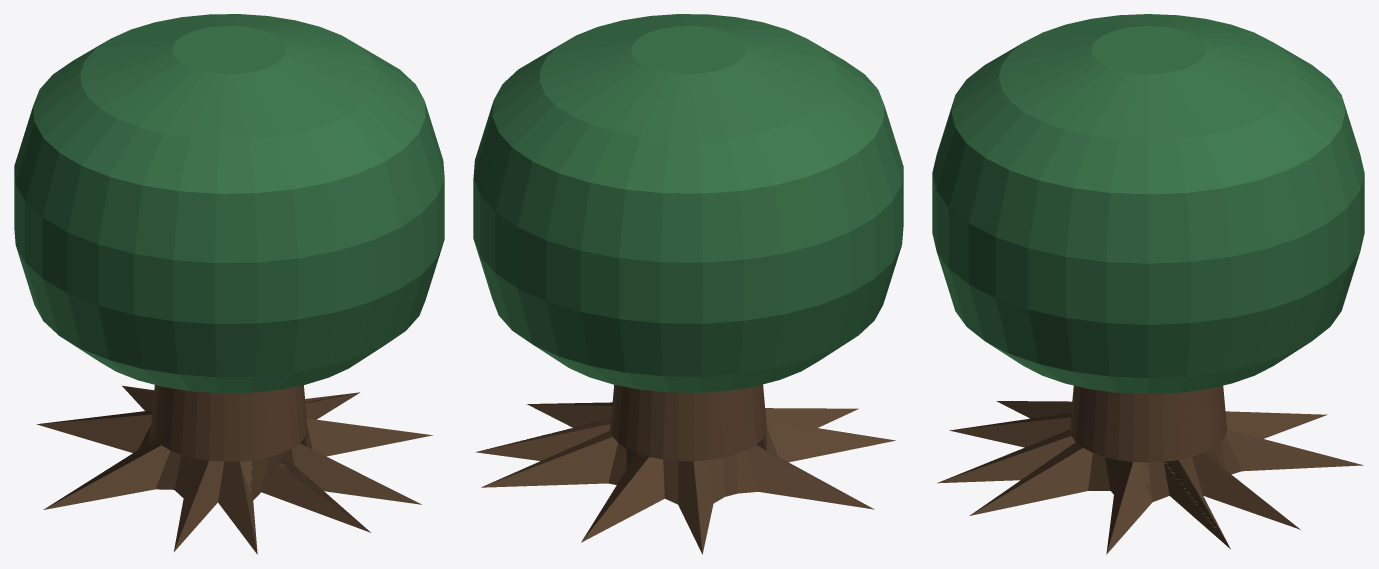
Rendered from SurfaceTree.obj.
The picture shows the model from 3 angles, left to right: view 1: azimuth 30°, elevation 25°; view 2: azimuth 150°, elevation 25°; view 3: azimuth 270°, elevation 25°; orthographic projection.
Parts seen in each view (by area): view 1: Cylinder.001; view 2: Cylinder.001; view 3: Cylinder.001.
Part boxes in pixels (x1,y1,x2,y2): Cylinder.001: (14, 14, 444, 554); Cylinder.001: (473, 14, 903, 554); Cylinder.001: (932, 14, 1364, 554).
Bounding box in the file's own units: 16 × 16.97 × 16.
